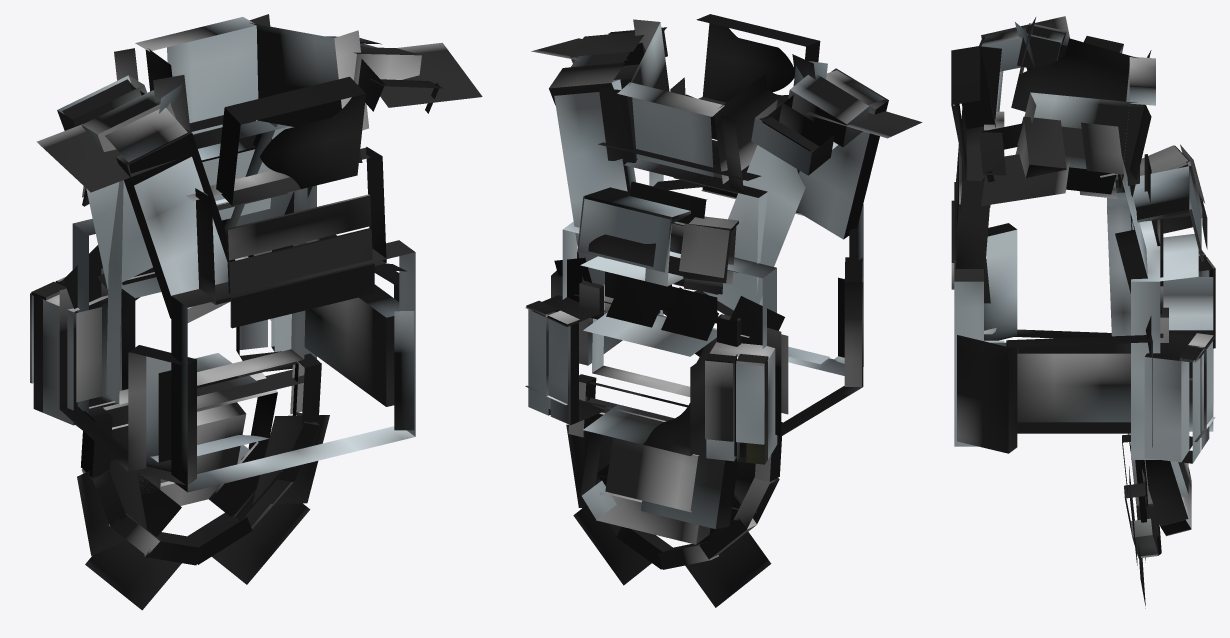
The model's file is maid.obj.
3 renders of one model, left to right at view 1: azimuth 30°, elevation 25°; view 2: azimuth 150°, elevation 25°; view 3: azimuth 270°, elevation 25°, orthographic. The views are drawn at different scales.
Visible parts, largest first — view 1: plane; view 2: plane; view 3: plane.
Part boxes in pixels (x1,y1,x2,y2): plane: (30,14,482,610); plane: (525,14,922,607); plane: (951,16,1215,608).
Bounding box in the file's own units: 0.9038 × 1.27 × 0.5619.
